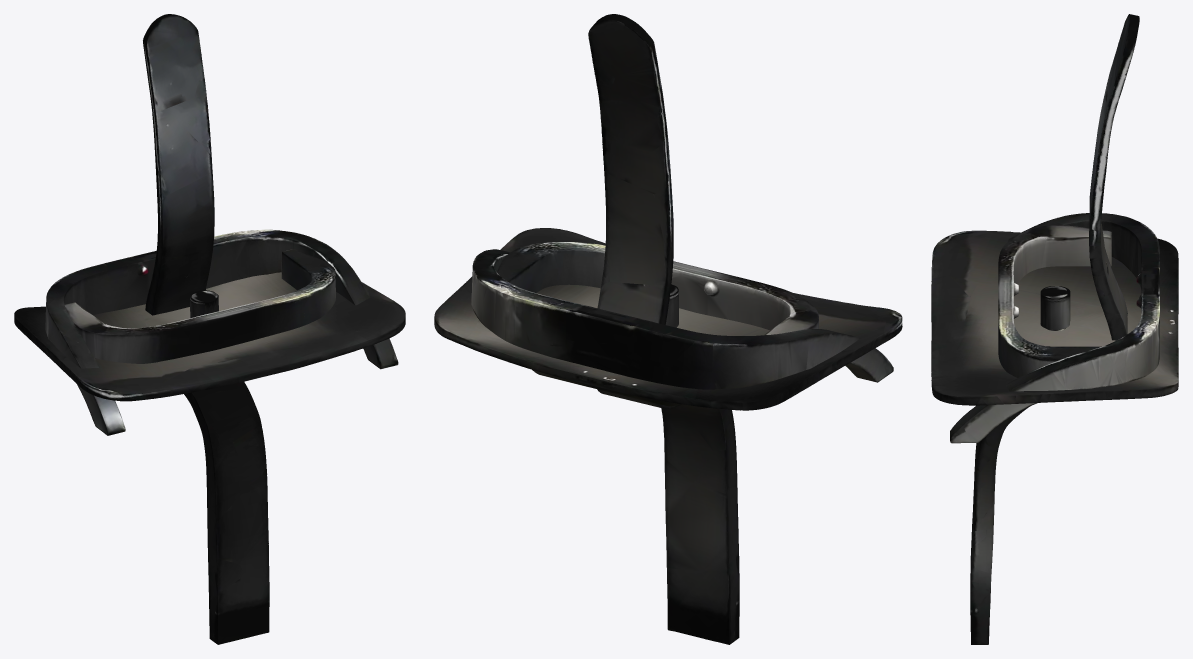
File: NMK.2005.0645_08733.glb
The picture shows the model from 3 angles, left to right: view 1: azimuth 30°, elevation 25°; view 2: azimuth 150°, elevation 25°; view 3: azimuth 270°, elevation 25°; orthographic projection. The views are drawn at different scales.
Parts seen in each view (by area): view 1: root.1, root.0, root.2, root.3; view 2: root.1, root.2, root.0, root.3; view 3: root.0, root.2, root.1, root.3, root.6.
Boxes of the visible parts, x1,y1,x2,y2 form: root.1: (143, 14, 269, 644); root.0: (14, 272, 405, 401); root.2: (45, 229, 398, 435); root.3: (64, 249, 335, 363); root.1: (588, 14, 739, 644); root.2: (471, 249, 893, 406); root.0: (434, 228, 902, 410); root.3: (497, 242, 818, 335); root.0: (931, 230, 1178, 405); root.2: (950, 213, 1159, 443); root.1: (970, 14, 1139, 644); root.3: (998, 225, 1111, 377); root.6: (1040, 288, 1070, 330).
Bounding box in the file's own units: 31010 × 53260 × 19418.
1 material, 1 textured.
